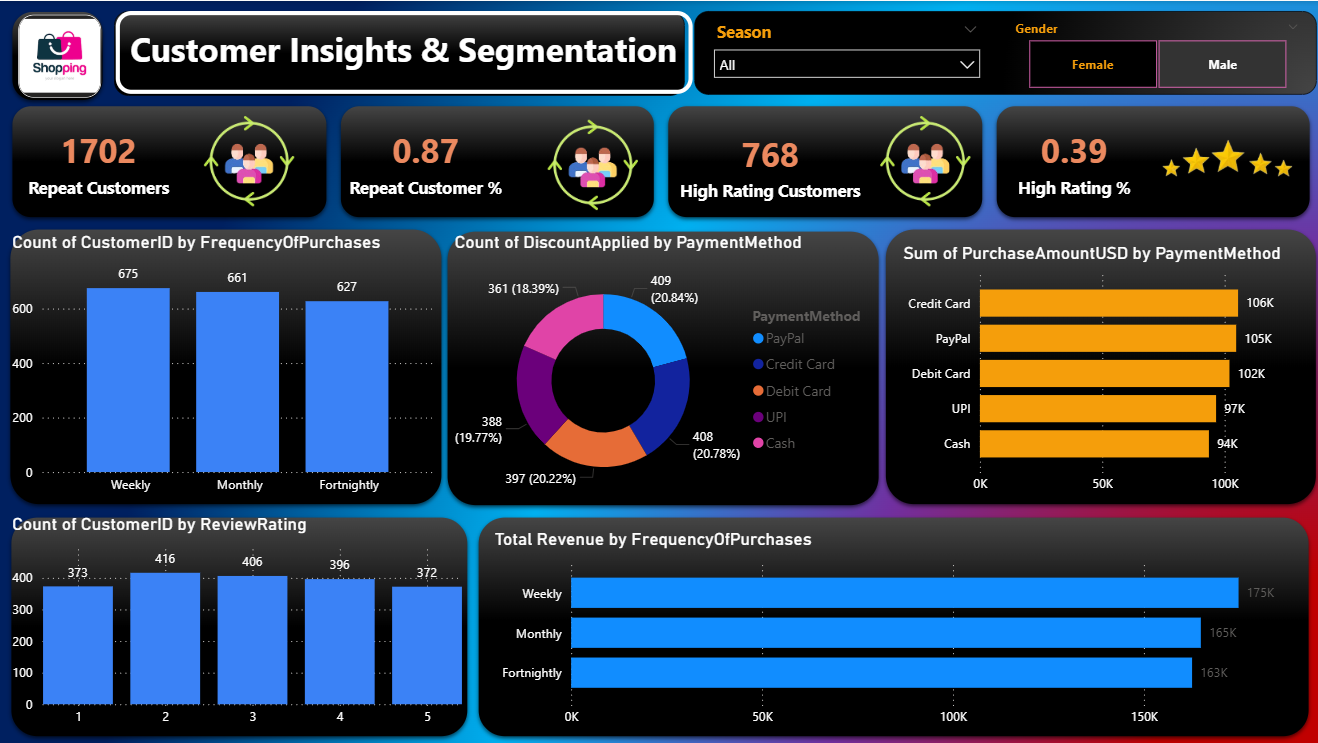

What the dashboard file says about the page in this screenshot:
{"tool":"powerbi","page":{"name":"Duplicate of Executive Overview","canvas":[1280,720],"ordinal":1},"visuals":[{"type":"textbox","box":[114.3,10,557.1,80],"z":0},{"type":"image","box":[20,12.9,80,80],"z":1000},{"type":"clusteredColumnChart","fields":{"Category":["Shoping_table_std.FrequencyOfPurchases"],"Y":["CountNonNull(Shoping_table_std.CustomerID)"]},"box":[10,221.4,420,262.9],"z":2000},{"type":"card","fields":{"Values":["Shoping_table_std.Repeat Customers"]},"box":[10,102.9,177.1,105.7],"z":3000},{"type":"image","box":[167.1,111.4,151.4,87.1],"z":4000},{"type":"card","fields":{"Values":["Shoping_table_std.Repeat Customer %"]},"box":[328.6,102.9,171.4,105.7],"z":5000},{"type":"card","fields":{"Values":["Shoping_table_std.High Rating Customers"]},"box":[651.4,105.7,190,105.7],"z":6000},{"type":"card","fields":{"Values":["Shoping_table_std.High Rating %"]},"box":[958.6,102.9,161.4,105.7],"z":7000},{"type":"donutChart","fields":{"Category":["Shoping_table_std.PaymentMethod"],"Y":["CountNonNull(Shoping_table_std.DiscountApplied)"]},"box":[437.1,221.4,417.1,270],"z":9000},{"type":"barChart","fields":{"Y":["Sum(Shoping_table_std.PurchaseAmountUSD)"],"Category":["Shoping_table_std.PaymentMethod"]},"box":[870,232.9,395.7,251.4],"z":10000},{"type":"columnChart","fields":{"Y":["CountNonNull(Shoping_table_std.CustomerID)"],"Category":["Shoping_table_std.ReviewRating"]},"box":[10,494.3,444.3,214.3],"z":11000},{"type":"barChart","fields":{"Category":["Shoping_table_std.FrequencyOfPurchases"],"Y":["Shoping_table_std.Total Revenue"]},"box":[475.7,508.6,790,200],"z":12000},{"type":"slicer","fields":{"Values":["Shoping_table_std.Season"]},"box":[681.4,12.9,277.1,80],"z":13000},{"type":"slicer","fields":{"Values":["Shoping_table_std.Gender"]},"box":[970,12.9,298.6,77.1],"z":14000},{"type":"image","box":[500,114.3,151.4,87.1],"z":15000},{"type":"image","box":[820,111.4,151.4,87.1],"z":16000},{"type":"image","box":[1120,105.7,135.7,100],"z":16001}]}

Visuals, with their boxes in screenshot pixels (x1, y1, x2, y2), scaled from the page's 1280x720 canvas onto the 1318x743 screenshot:
textbox: bbox(118, 10, 691, 93)
image: bbox(21, 13, 103, 96)
clusteredColumnChart - Shoping_table_std.FrequencyOfPurchases x CountNonNull(Shoping_table_std.CustomerID): bbox(10, 228, 443, 500)
card - Shoping_table_std.Repeat Customers: bbox(10, 106, 193, 215)
image: bbox(172, 115, 328, 205)
card - Shoping_table_std.Repeat Customer %: bbox(338, 106, 515, 215)
card - Shoping_table_std.High Rating Customers: bbox(671, 109, 866, 218)
card - Shoping_table_std.High Rating %: bbox(987, 106, 1153, 215)
donutChart - Shoping_table_std.PaymentMethod x CountNonNull(Shoping_table_std.DiscountApplied): bbox(450, 228, 880, 507)
barChart - Sum(Shoping_table_std.PurchaseAmountUSD) x Shoping_table_std.PaymentMethod: bbox(896, 240, 1303, 500)
columnChart - CountNonNull(Shoping_table_std.CustomerID) x Shoping_table_std.ReviewRating: bbox(10, 510, 468, 731)
barChart - Shoping_table_std.FrequencyOfPurchases x Shoping_table_std.Total Revenue: bbox(490, 525, 1303, 731)
slicer - Shoping_table_std.Season: bbox(702, 13, 987, 96)
slicer - Shoping_table_std.Gender: bbox(999, 13, 1306, 93)
image: bbox(515, 118, 671, 208)
image: bbox(844, 115, 1000, 205)
image: bbox(1153, 109, 1293, 212)
